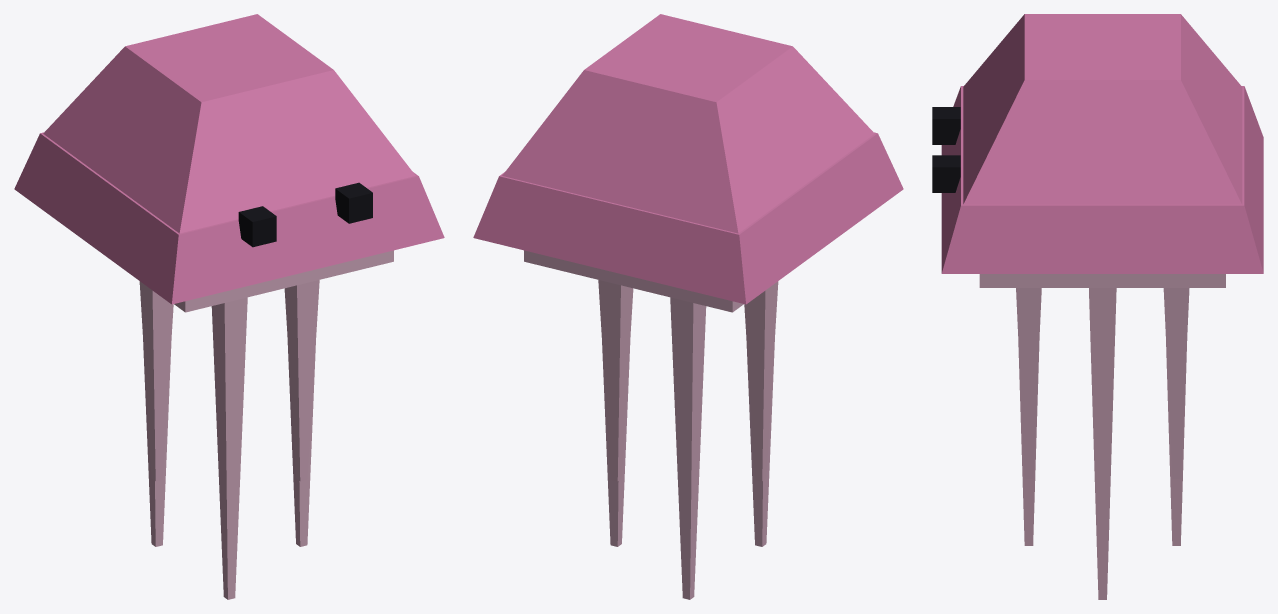
Rendered from jellyfish.glb.
3 renders of one model, left to right at view 1: azimuth 30°, elevation 25°; view 2: azimuth 150°, elevation 25°; view 3: azimuth 270°, elevation 25°, orthographic. The views are drawn at different scales.
Visible parts, largest first — view 1: jellyfish; view 2: jellyfish; view 3: jellyfish.
Boxes of the visible parts, x1=… form: jellyfish: x1=14, y1=14, x2=444, y2=599; jellyfish: x1=473, y1=14, x2=903, y2=599; jellyfish: x1=932, y1=14, x2=1263, y2=599.
Size of the model in its own units: 0.34 by 0.6 by 0.35.
